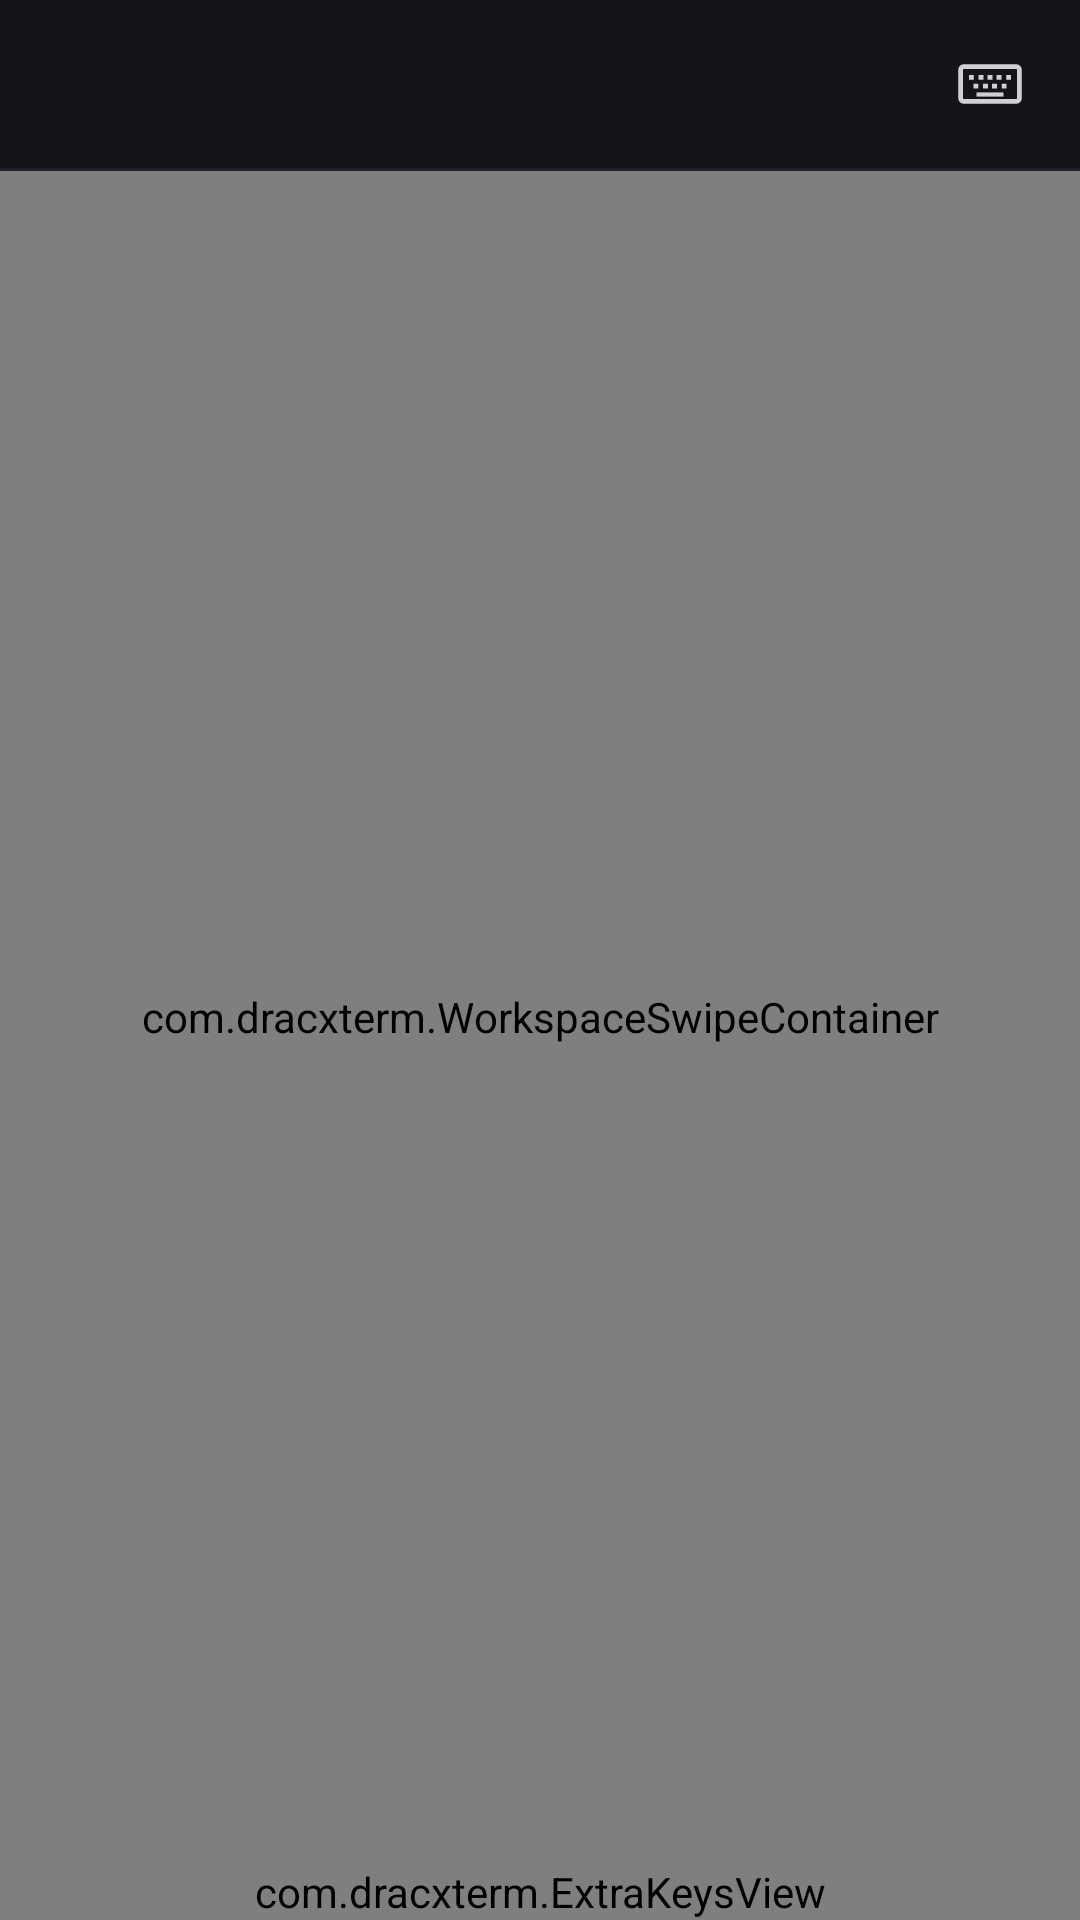

Locate icon controls on the screen. Image size 1080 × 1920, boxes as (x1, y1, x2, y2).
Tampilkan atau sembunyikan papan ketik: (958, 64, 1022, 104)
